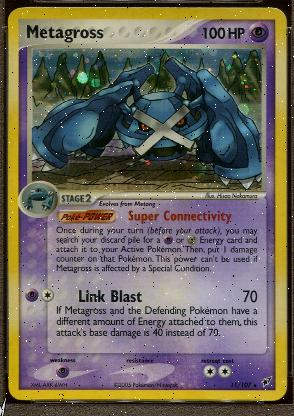Card: (7, 5, 287, 401)
